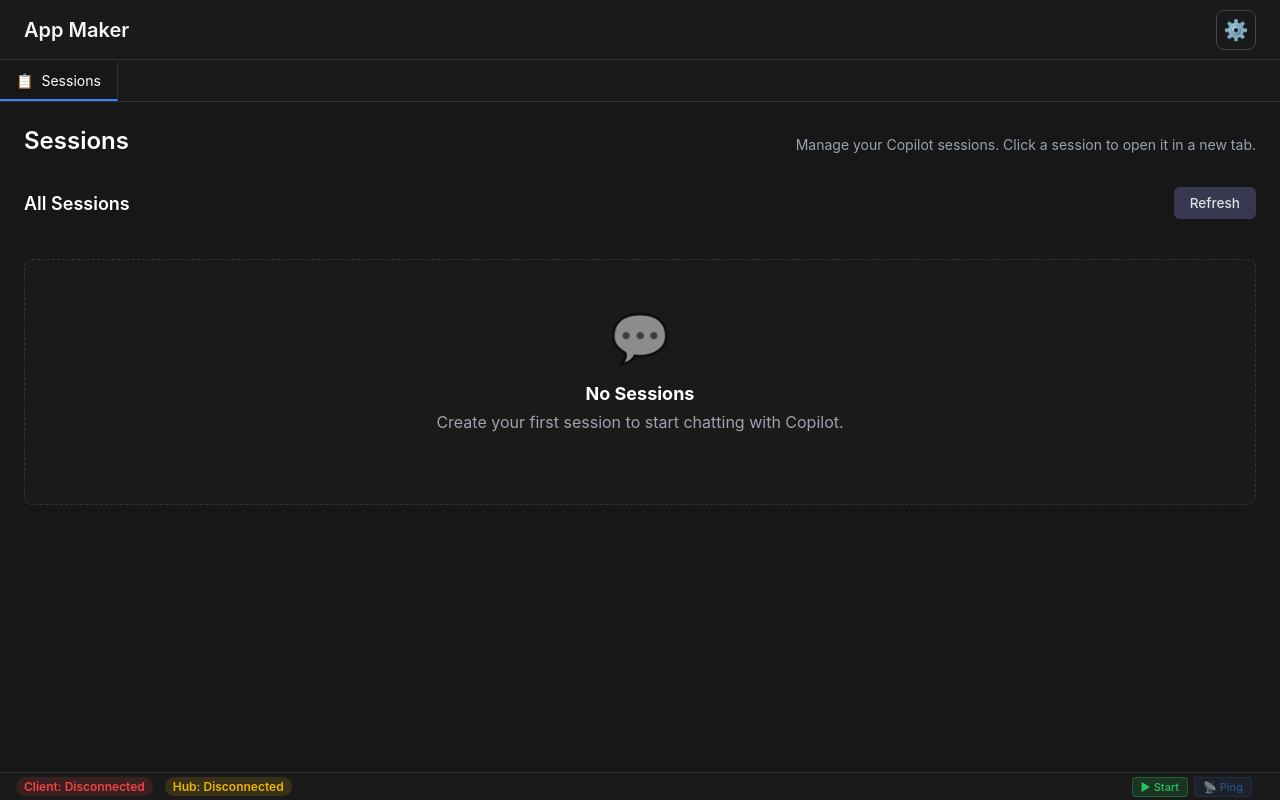
Test: MainLayout › closes config modal when close button is clicked
Note: Open modal
Click the button with test id "settings-button".
click(1236, 30)  # box 1216,10 -> 1256,50
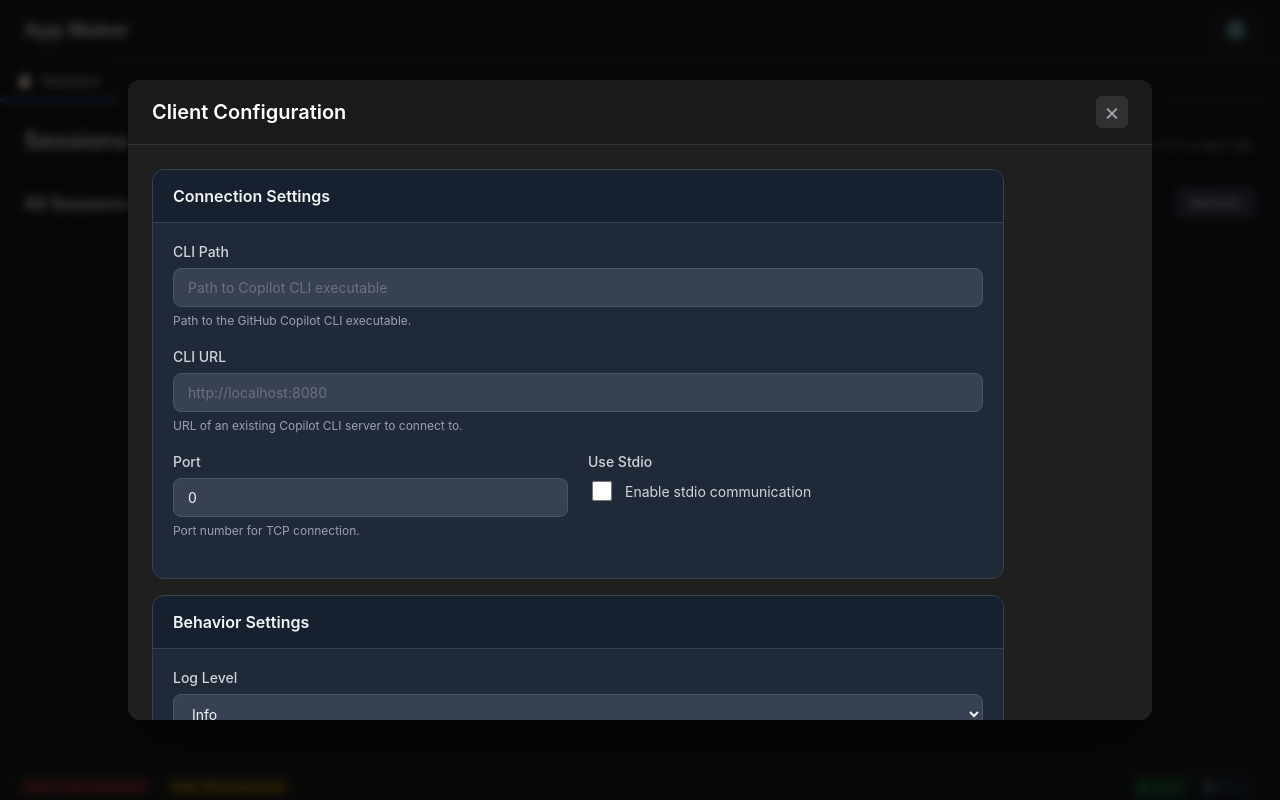
expect the element with test id "client-config-modal" is shown: met
Note: Close modal
Click the button with test id "client-config-modal-close".
click(1112, 112)  # box 1096,96 -> 1128,128
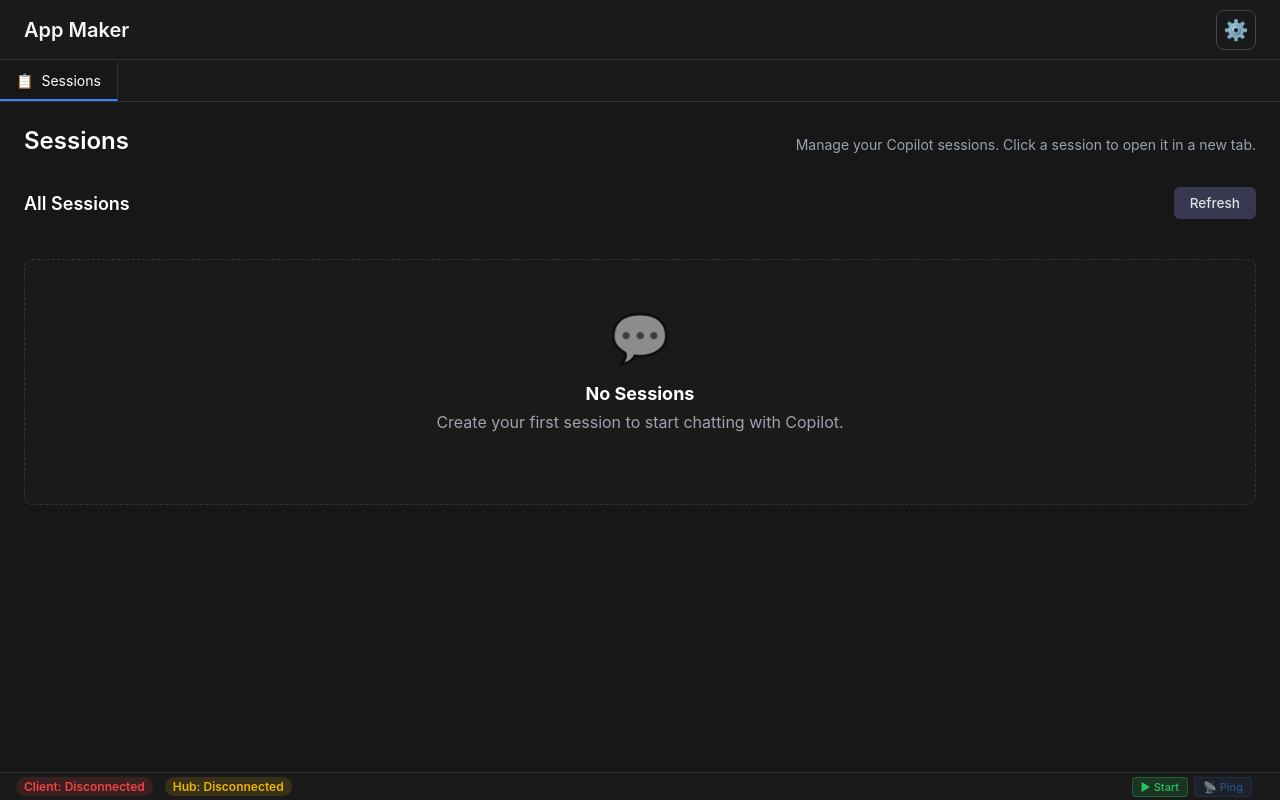
expect the element with test id "client-config-modal" is gone: met
